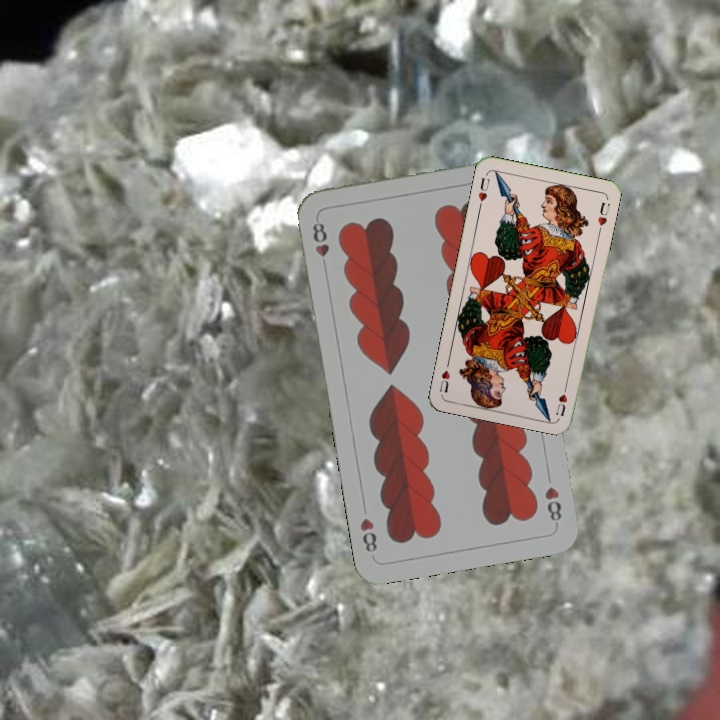H8: (540, 482, 564, 528), (308, 218, 332, 259)
HU: (551, 379, 570, 418), (474, 173, 492, 210)
